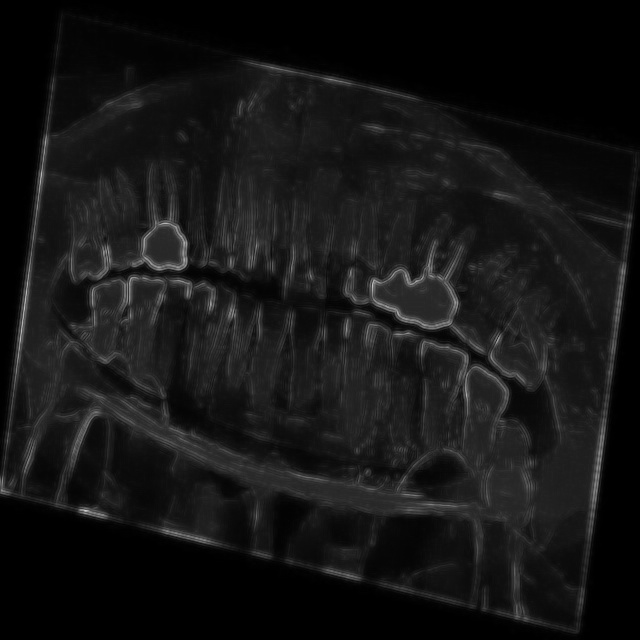Class 1- complete endodontic treatment: (413, 195, 482, 304), (124, 147, 196, 247)
cavity: (368, 179, 425, 285)
